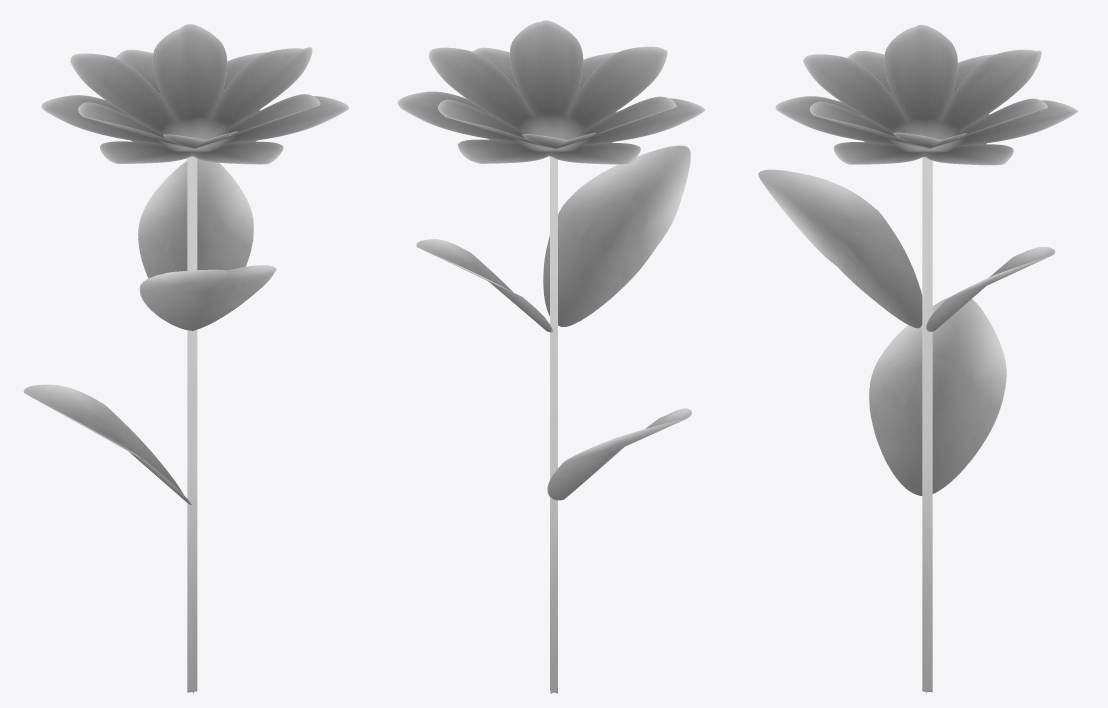
The model's file is SM_Flower_01.fbx.
The picture shows the model from 3 angles, left to right: view 1: azimuth 30°, elevation 25°; view 2: azimuth 150°, elevation 25°; view 3: azimuth 270°, elevation 25°; orthographic projection.
Parts seen in each view (by area): view 1: SM_Flower_01_LOD0; view 2: SM_Flower_01_LOD0; view 3: SM_Flower_01_LOD0.
Part boxes in pixels (x1,y1,x2,y2): SM_Flower_01_LOD0: (23, 24, 349, 693); SM_Flower_01_LOD0: (397, 20, 704, 693); SM_Flower_01_LOD0: (758, 24, 1077, 693).
Size of what is drawn, in the model's own units: 0.4159 by 0.8496 by 0.4317.
